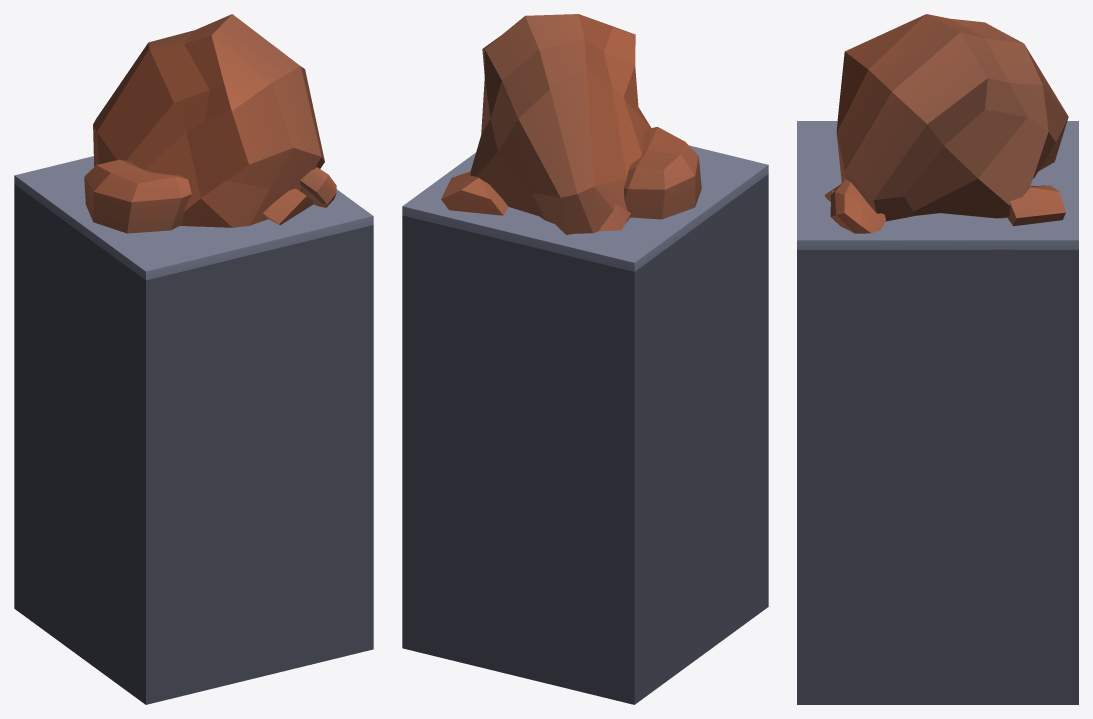
File: debris1.glb
3 renders of one model, left to right at view 1: azimuth 30°, elevation 25°; view 2: azimuth 150°, elevation 25°; view 3: azimuth 270°, elevation 25°, orthographic. The views are drawn at different scales.
Visible parts, largest first — view 1: Cube; view 2: Cube; view 3: Cube.
Boxes of the visible parts, x1=… form: Cube: x1=14, y1=14, x2=373, y2=704; Cube: x1=402, y1=14, x2=768, y2=704; Cube: x1=797, y1=14, x2=1078, y2=704.
Size of the model in its own units: 1 by 2.5 by 1.
Materials: 1 (1 with a texture image).
